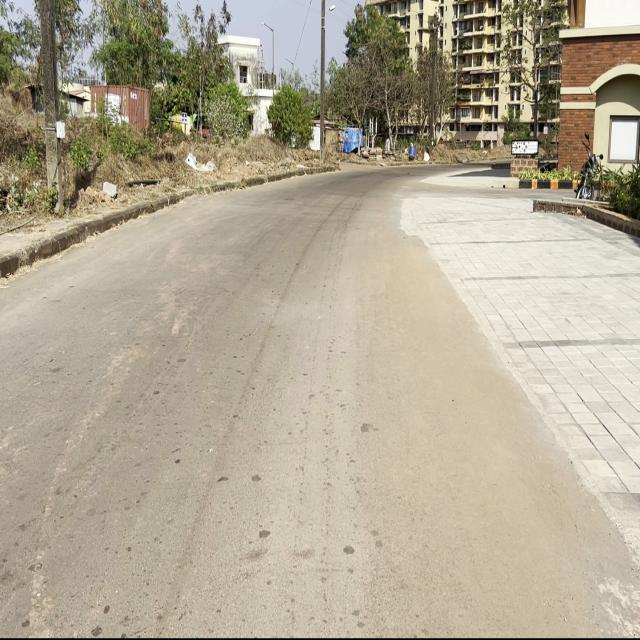Road: (0, 169, 640, 638)
